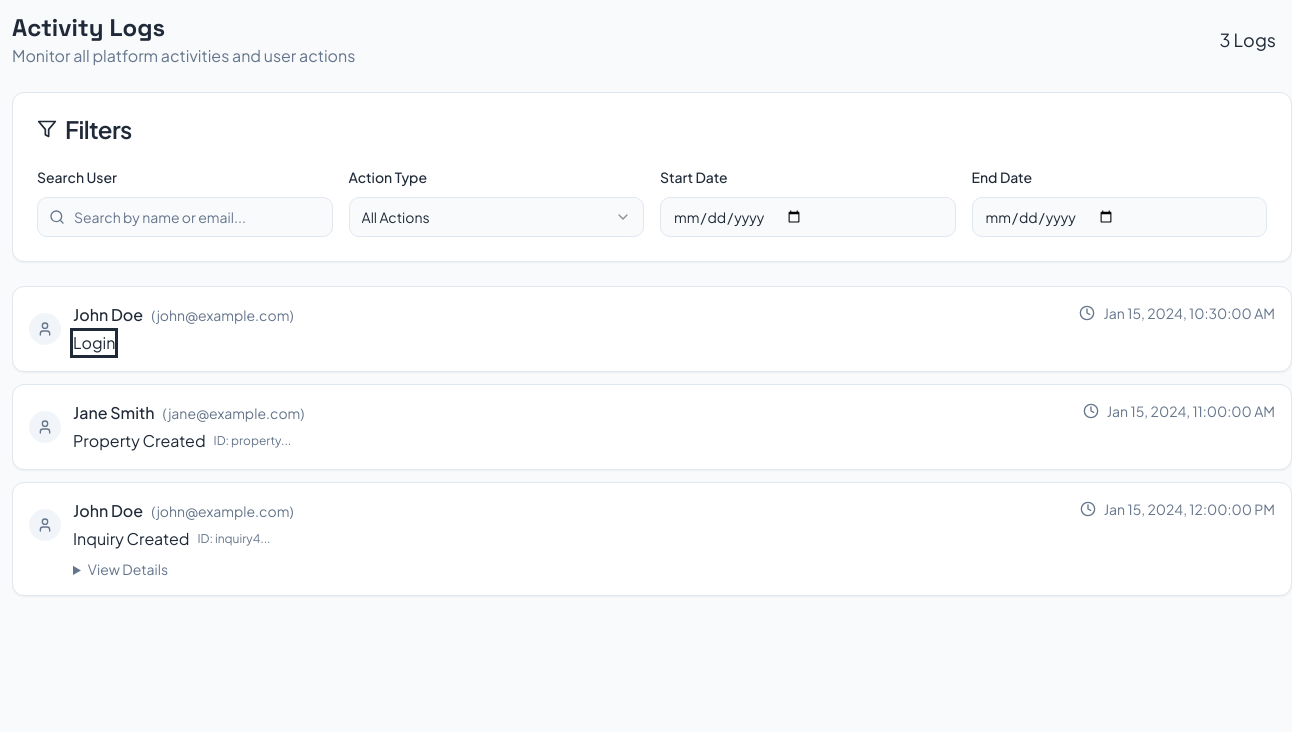
Scenario: ActivityLog Component › Filtering › should filter logs by user search
Expected: the text "John Doe" in the row of "Jan 15, 2024, 10:30:00 AM" is shown, [73,304,143,325]
Expected: the text "Jane Smith" is shown, [73,401,155,425]
Type "Jane" into the field with placeholder "Search by name or email...".
click(185, 217); type("Jane")  # box [37,197,332,237]
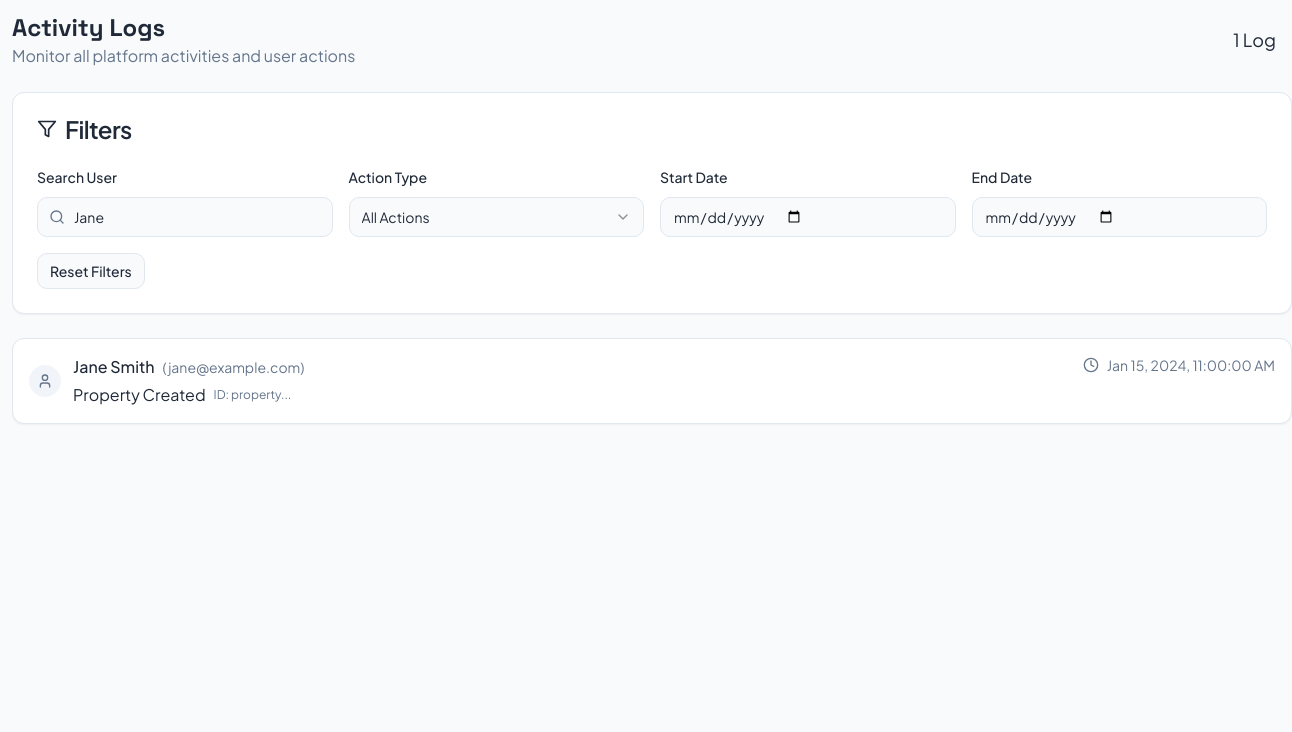
Expected: the text "Jane Smith" is shown, [73,355,155,379]
Result: the text "John Doe" is gone
